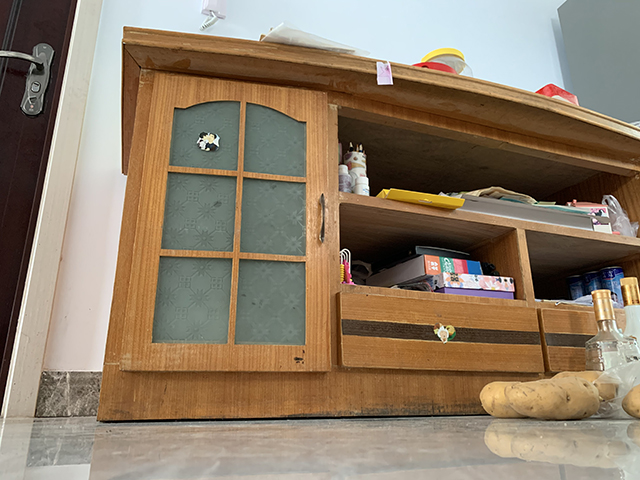cabinet: (94, 24, 640, 424)
